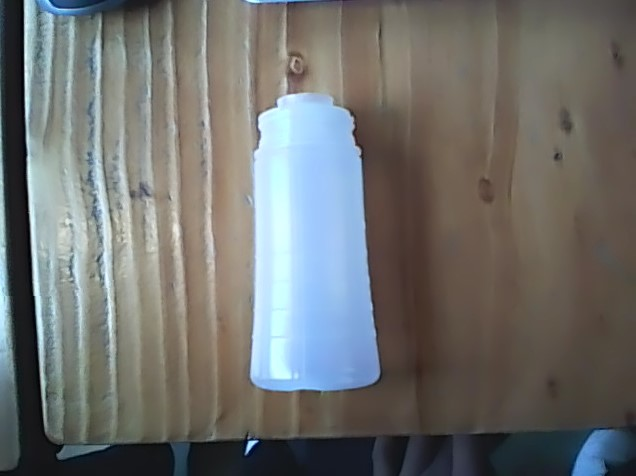Plastic: (237, 87, 387, 399)
